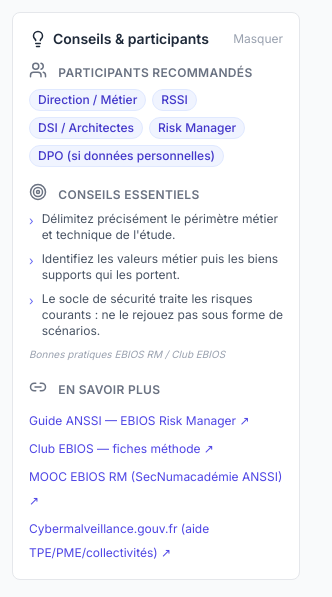
Test case: AtelierGuidancePanel › se masque au clic et persiste l'état en localStorage
Click the button "Masquer" at coordinates (258, 39), box 233,31 -> 283,47
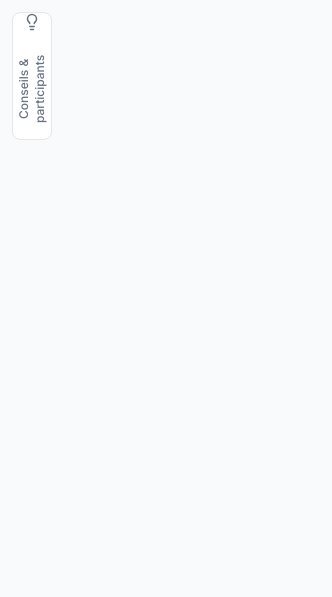
Expected: the button with aria-label "Afficher les conseils" is shown, 12,12 -> 52,140
Result: the heading "Participants recommandés" is gone
